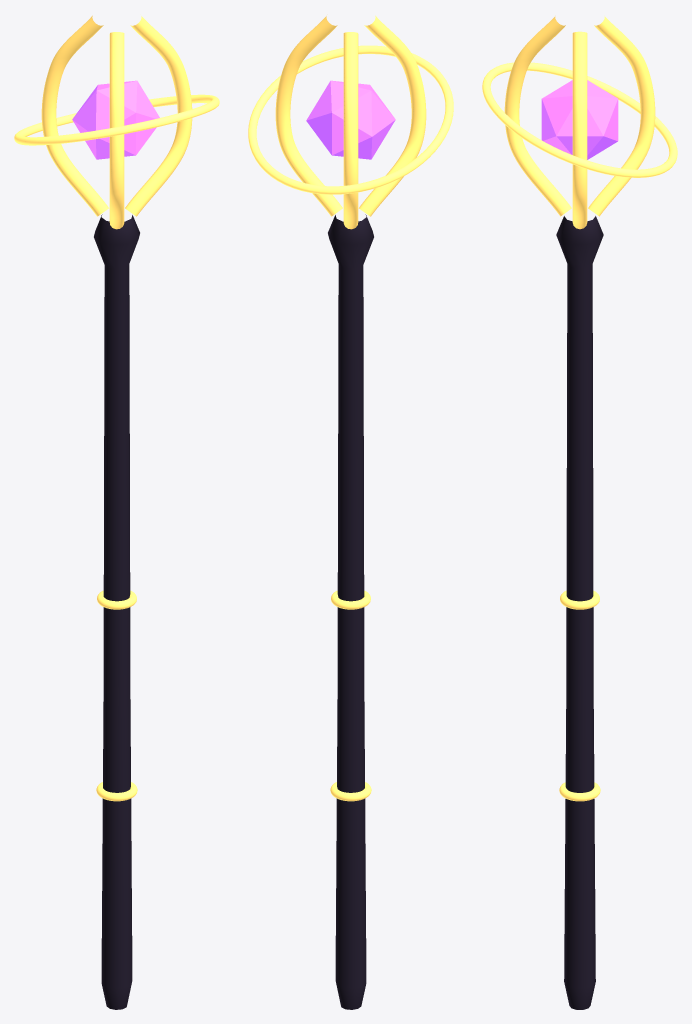
File: sages_staff.glb
The picture shows the model from 3 angles, left to right: view 1: azimuth 30°, elevation 25°; view 2: azimuth 150°, elevation 25°; view 3: azimuth 270°, elevation 25°; orthographic projection.
Parts seen in each view (by area): view 1: sg_shaft, sg_gem, sg_prong3, sg_prong1, sg_prong2, sg_halo; view 2: sg_shaft, sg_halo, sg_gem, sg_prong1, sg_prong2, sg_prong3; view 3: sg_shaft, sg_gem, sg_halo, sg_prong3, sg_prong2, sg_prong1.
Part boxes in pixels (x1=…): sg_shaft: x1=94, y1=214, x2=139, y2=1009; sg_gem: x1=72, y1=80, x2=159, y2=159; sg_prong3: x1=41, y1=15, x2=108, y2=216; sg_prong1: x1=125, y1=16, x2=192, y2=216; sg_prong2: x1=109, y1=32, x2=124, y2=229; sg_halo: x1=14, y1=94, x2=219, y2=145; sg_shaft: x1=328, y1=214, x2=373, y2=1009; sg_halo: x1=248, y1=45, x2=453, y2=194; sg_gem: x1=306, y1=80, x2=395, y2=159; sg_prong1: x1=275, y1=16, x2=342, y2=216; sg_prong2: x1=359, y1=15, x2=426, y2=216; sg_prong3: x1=343, y1=32, x2=358, y2=229; sg_shaft: x1=556, y1=216, x2=603, y2=1009; sg_gem: x1=541, y1=80, x2=618, y2=159; sg_halo: x1=482, y1=62, x2=677, y2=177; sg_prong3: x1=588, y1=16, x2=655, y2=216; sg_prong2: x1=504, y1=16, x2=571, y2=216; sg_prong1: x1=572, y1=31, x2=587, y2=229.
Size of the model in its own units: 0.396 by 2.06 by 0.3702.
